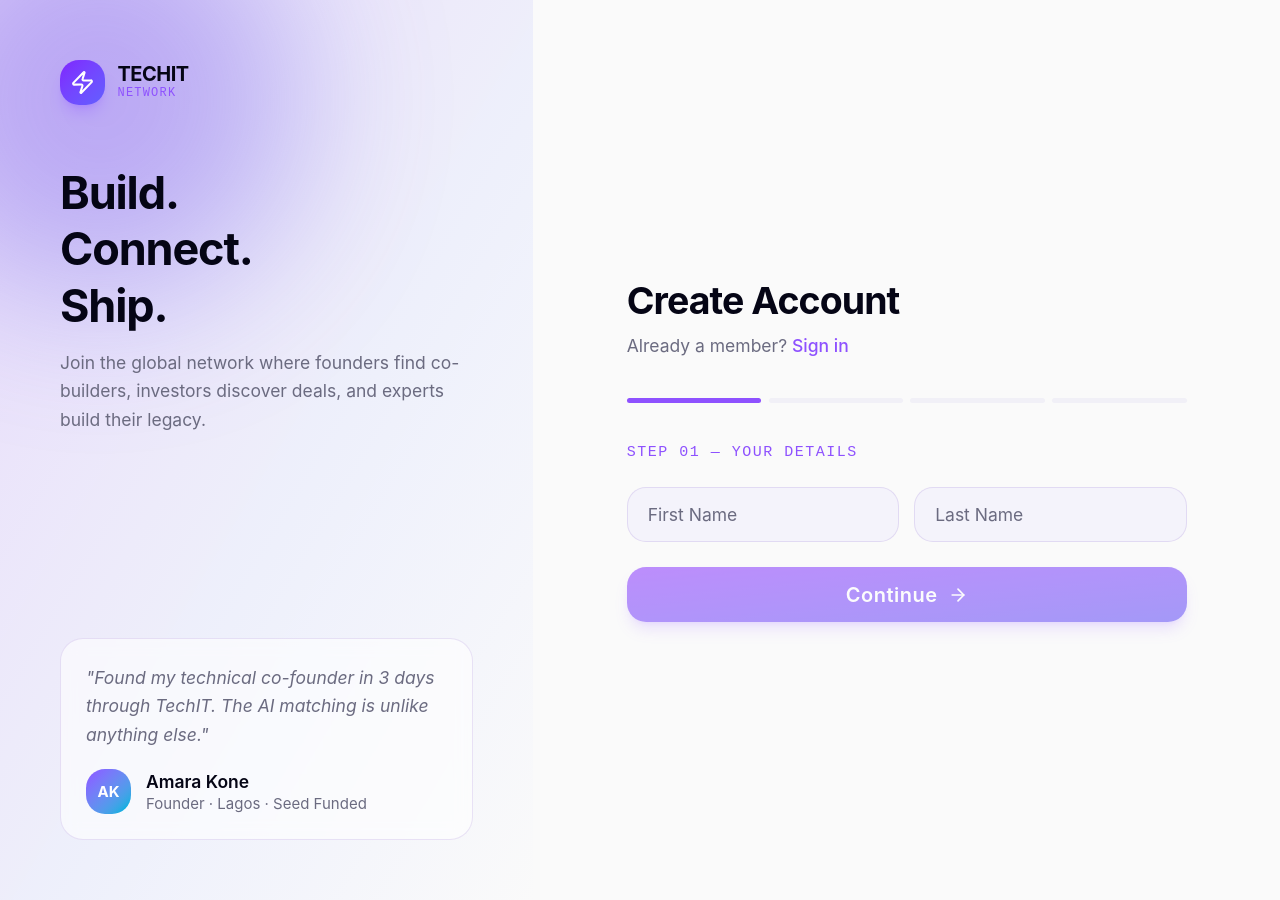
Test case: Signup page › Step 2 — Role & Email › shows email validation error for invalid format
Type "Alice" into the field with placeholder "First Name".
click(763, 515); type("Alice")  # box 627,488 -> 899,542
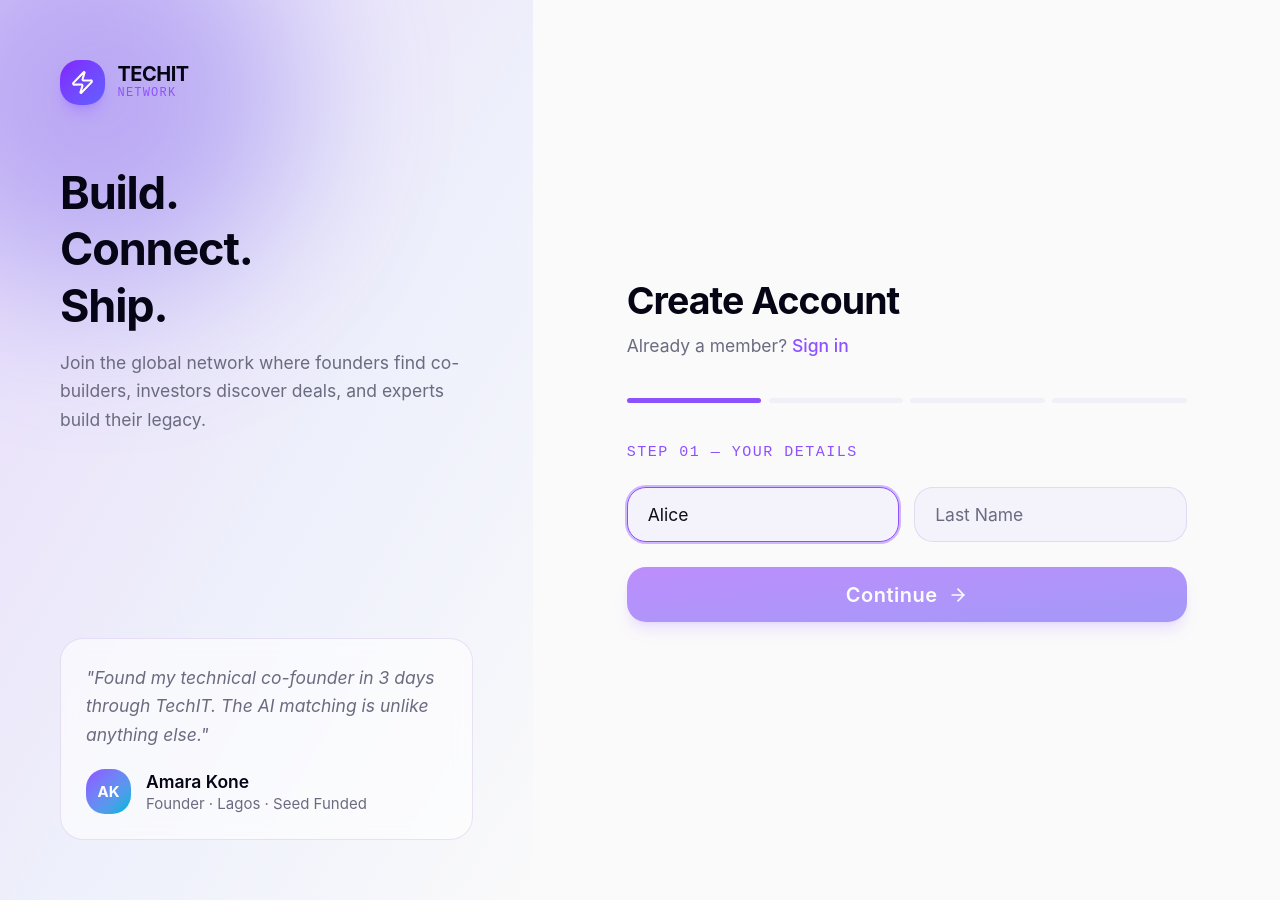
Type "Smith" into the field with placeholder "Last Name".
click(1050, 515); type("Smith")  # box 914,488 -> 1187,542
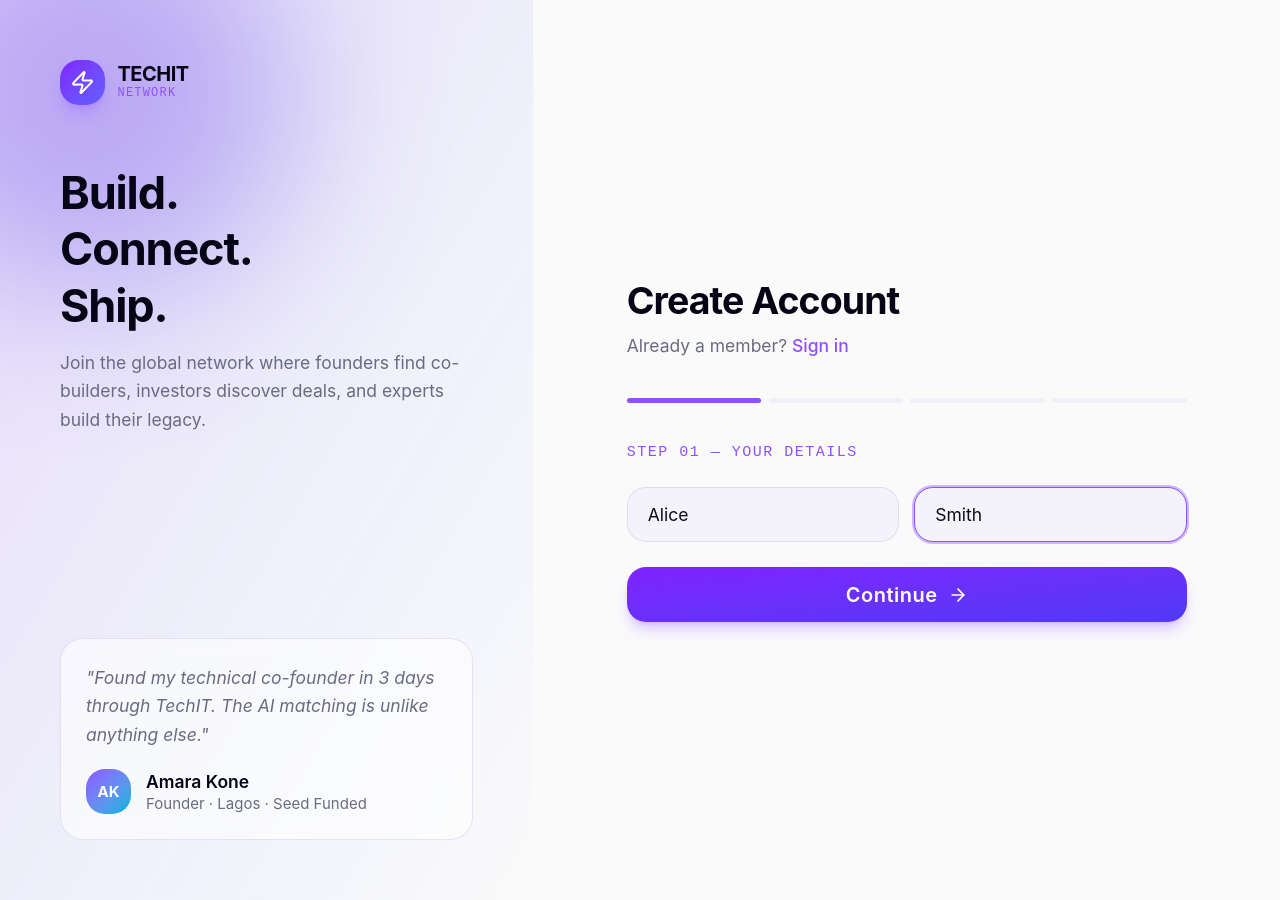
Click the button "Continue".
click(907, 595)  # box 627,568 -> 1187,622
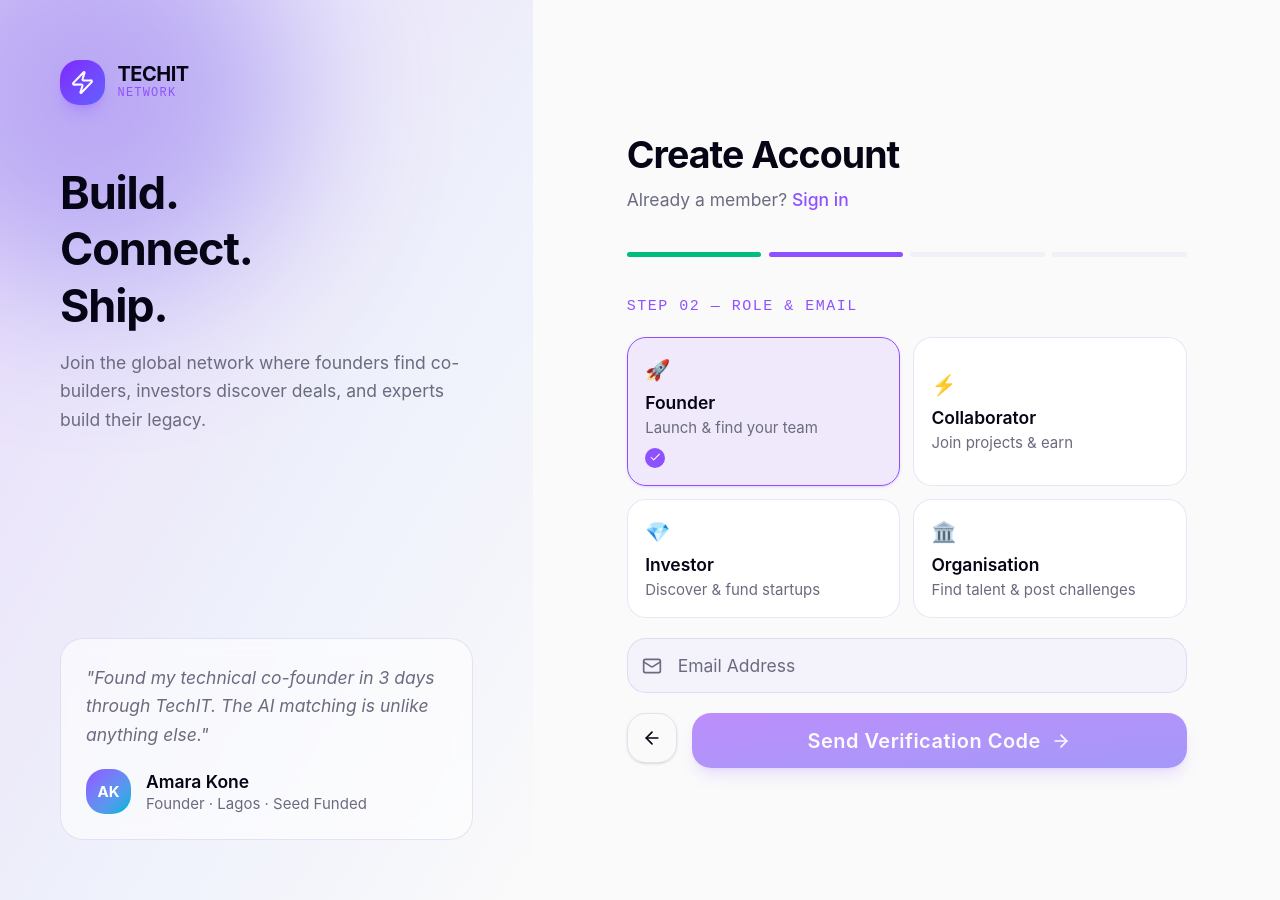
Type "bad" into the field with placeholder "Email Address".
click(907, 666); type("bad")  # box 627,638 -> 1187,693
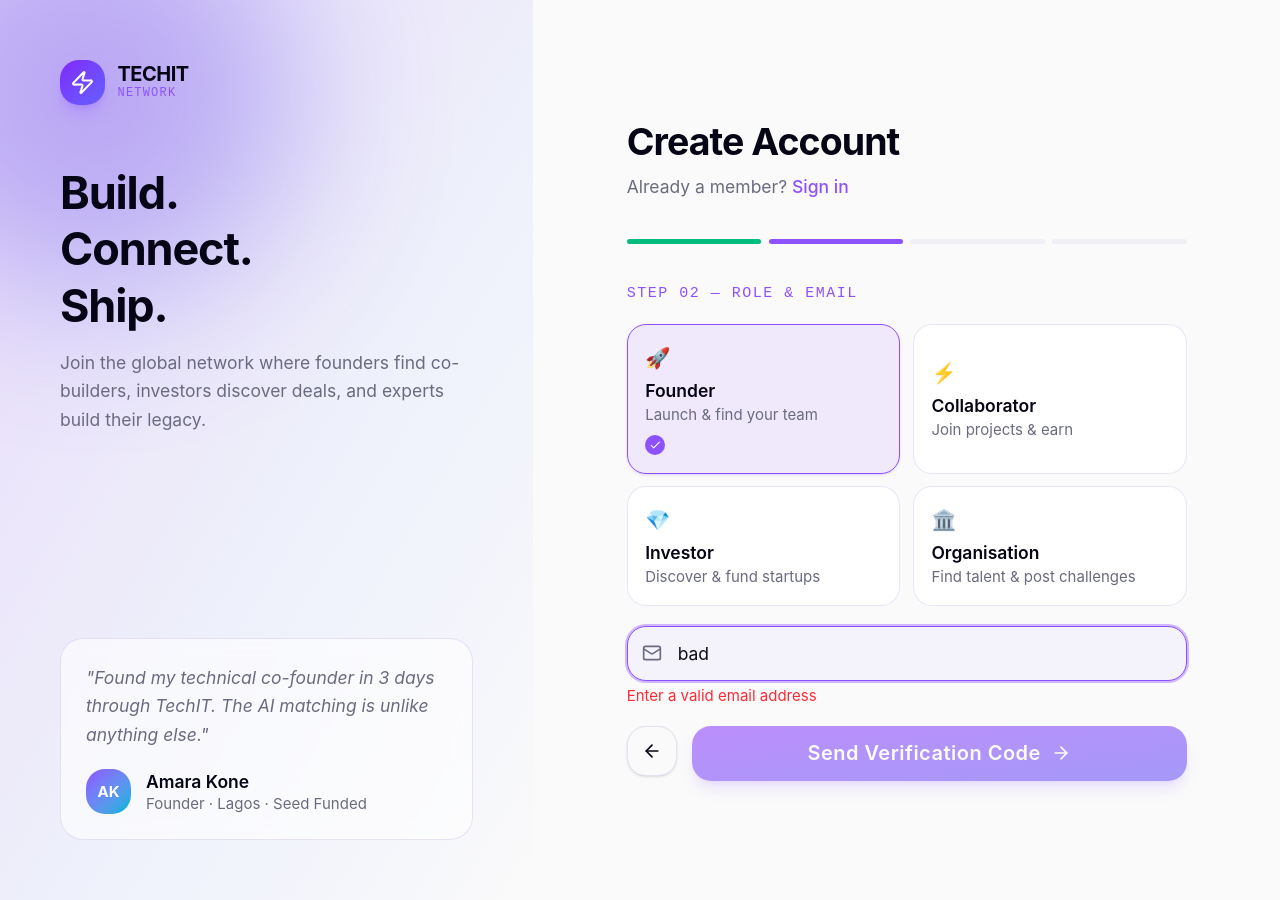
Expected: the text "Enter a valid email address" is shown, 627,686 -> 817,705
